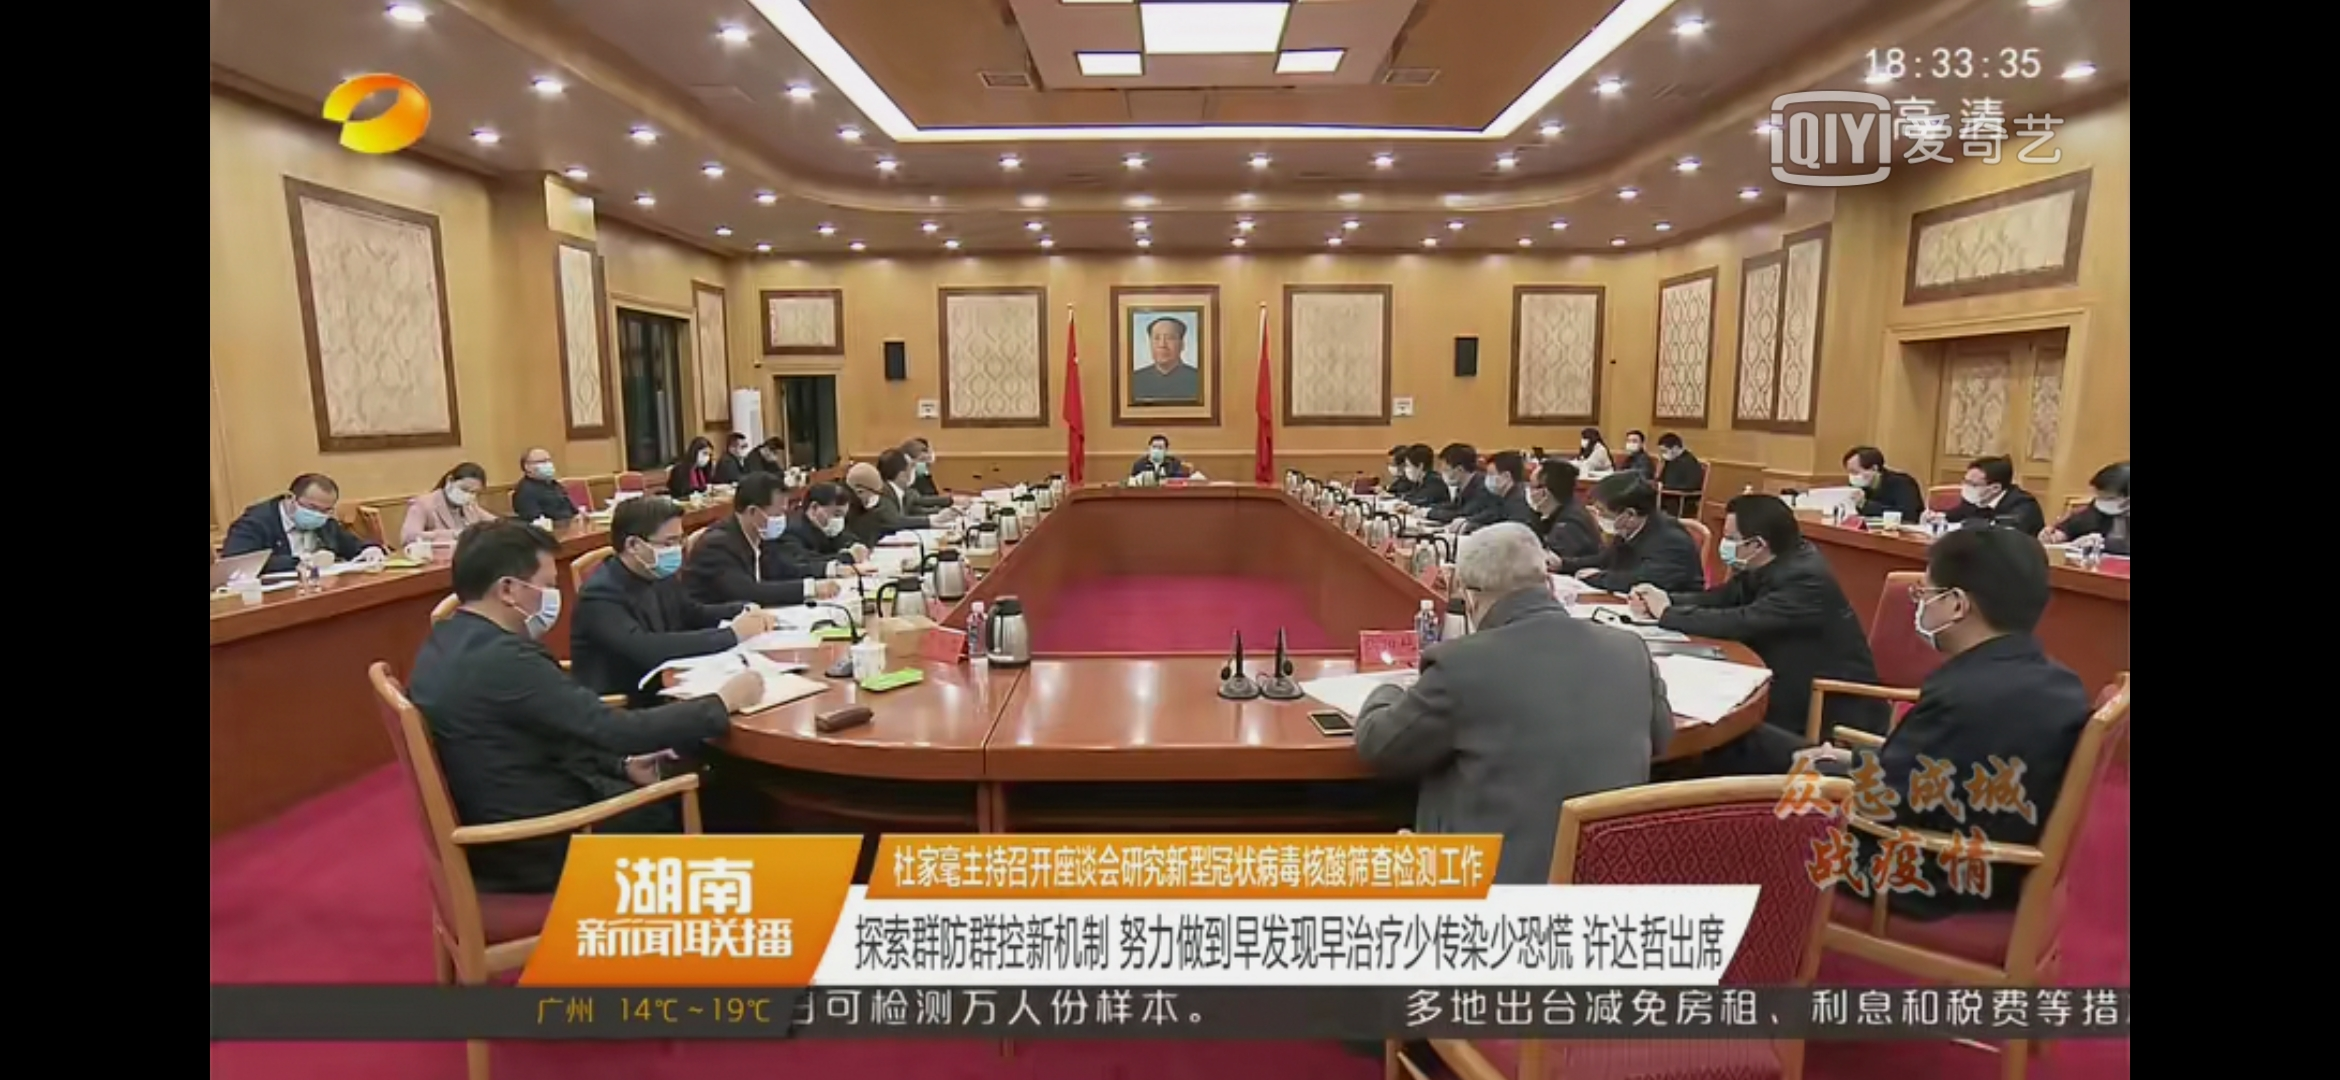correctlyWear: (457, 513, 566, 644), (1912, 536, 1989, 655), (1718, 489, 1801, 576), (610, 500, 689, 580), (270, 456, 342, 540), (1589, 462, 1659, 544), (728, 468, 792, 541), (2086, 456, 2139, 528), (436, 459, 491, 521), (1522, 456, 1583, 510), (1961, 449, 2010, 510), (801, 482, 854, 539), (1483, 443, 1527, 500), (1437, 440, 1483, 491), (1842, 442, 1888, 488), (852, 459, 886, 509), (522, 443, 560, 485), (1404, 446, 1439, 483), (686, 433, 716, 470), (1574, 424, 1612, 453), (1621, 427, 1654, 459), (1383, 442, 1407, 480), (1655, 433, 1685, 462), (725, 428, 752, 459), (1148, 434, 1174, 462)
noWear: (897, 458, 916, 486), (924, 440, 936, 465)
